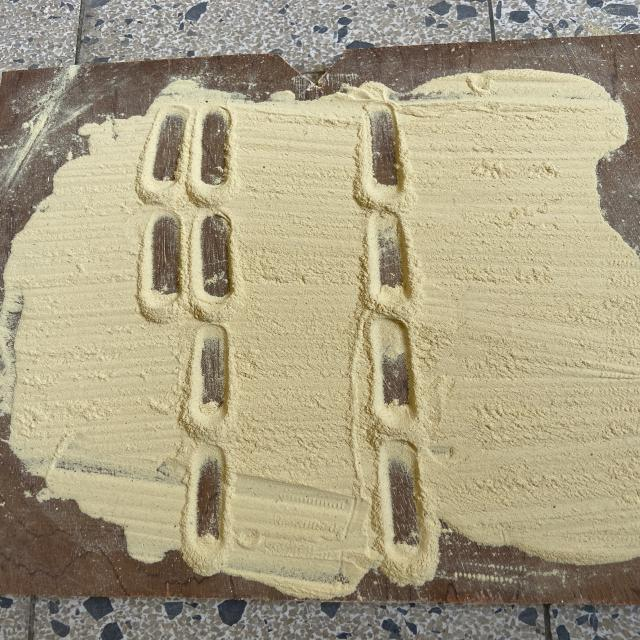double: (130, 206, 247, 322), (138, 100, 240, 206)
single: (360, 316, 424, 435), (176, 324, 242, 439), (376, 438, 431, 574), (352, 100, 418, 210), (180, 444, 236, 568), (358, 212, 419, 314)
